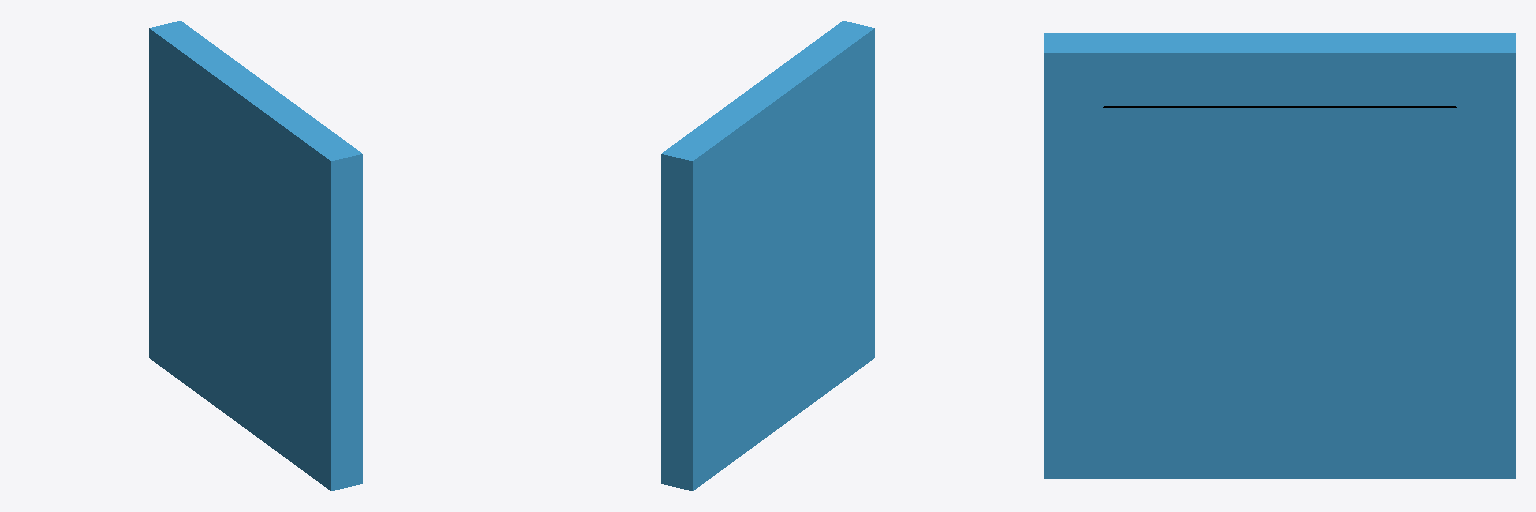
URDF robot description (aruco_6x6_1):
<robot name="aruco_6x6_1">
    <link name="aruco_6x6_1"/>
    <joint name="base" type="fixed">
        <parent link="aruco_6x6_1"/>
        <child link="white_board_6x6_1"/>
        <origin xyz="0.0 0.0 0.0" rpy="0.0 0.0 0.0"/>
    </joint>
    <link name="white_board_6x6_1">
        <visual>
            <origin rpy="0 0 0" xyz="0 0 0"/>
            <geometry>
                <mesh filename="package://robotica_movel/src/aruco/aruco_6x6_1_15cm.dae"/>
            </geometry>
        </visual>
        <visual>
            <origin xyz="-0.005 0.0 0.0" rpy="0.0 -1.5707 0.0"/>
            <geometry>
                <box size="0.20 0.20 0.02"/>
            </geometry>
        </visual>
        <collision>
            <origin rpy="0 0 0" xyz="0 0 0"/>
            <geometry>
                <mesh filename="package://robotica_movel/src/aruco/aruco_6x6_1_15cm.dae"/>
            </geometry>
        </collision>
        <inertial>
            <origin rpy="0 0 0" xyz="0.000000 0.000000 0.000000"/>
            <mass value="35.336455"/>
            <inertia ixx="1.849155" ixy="-0.000354" ixz="-0.154188" iyy="1.662671" iyz="0.003292" izz="0.802239"/>
        </inertial>
    </link>
    <gazebo>
        <static>true</static>
    </gazebo>
</robot>

--- Render facts (derived) ---
The picture shows the robot from 3 angles, left to right: view 1: azimuth 30°, elevation 25°; view 2: azimuth 150°, elevation 25°; view 3: azimuth 270°, elevation 25°; orthographic projection.
Robot: aruco_6x6_1 — 2 links, 1 joints (1 fixed); root link aruco_6x6_1; default pose: all joints at 0.
Visible links, largest first — view 1: white_board_6x6_1; view 2: white_board_6x6_1; view 3: white_board_6x6_1.
Link boxes in pixels (bbox=[...]): white_board_6x6_1: bbox=[149, 21, 362, 490]; white_board_6x6_1: bbox=[661, 21, 874, 490]; white_board_6x6_1: bbox=[1044, 33, 1515, 478].
Size in the robot's own frame: 0.0225 by 0.2 by 0.2 metres.
1 mesh visuals loaded from 1 distinct referenced files (1 Collada DAE).